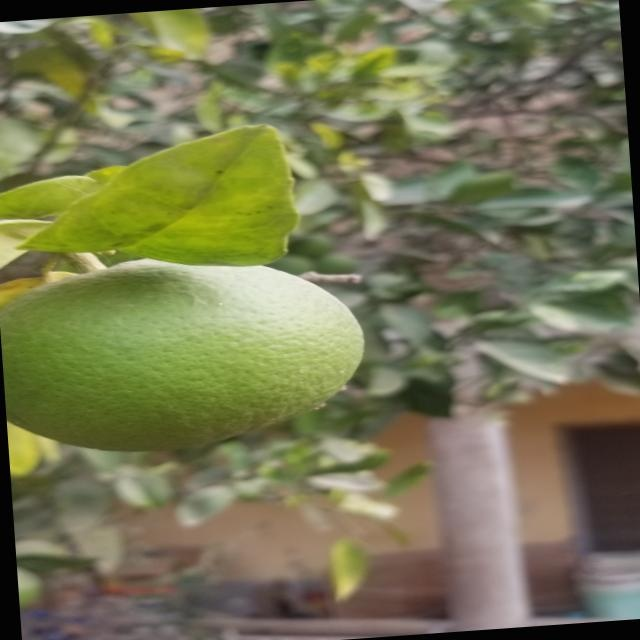agrume: (0, 239, 400, 471)
